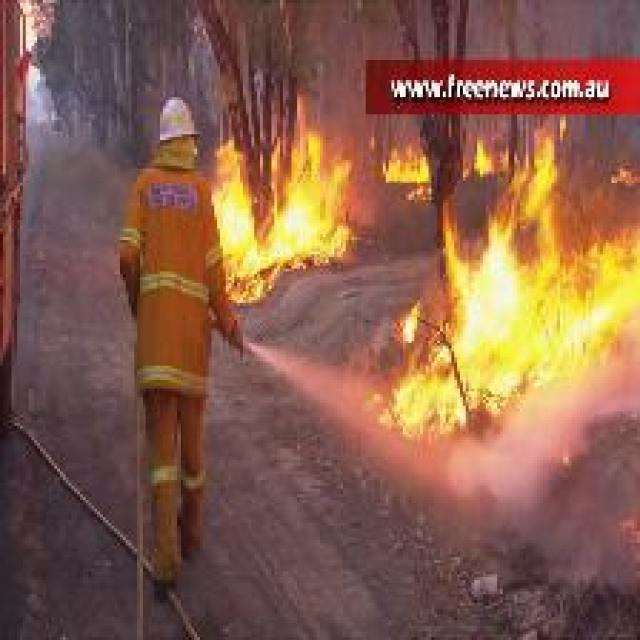Fire: (380, 137, 640, 440), (213, 88, 356, 306), (386, 144, 428, 182), (474, 136, 492, 176)
